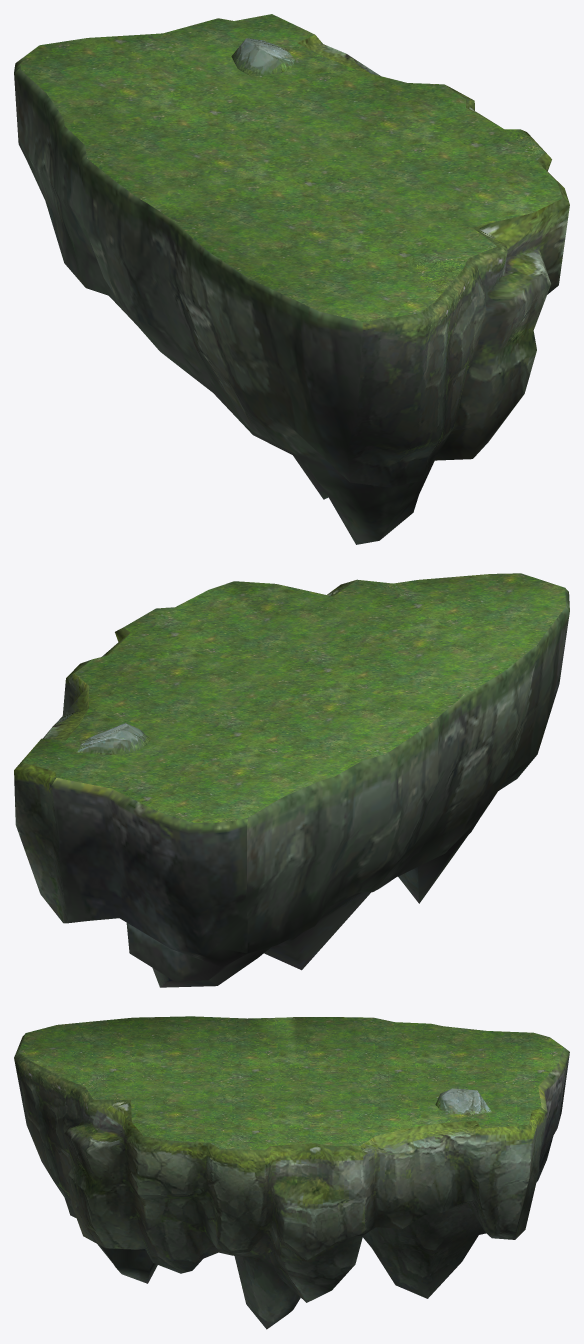
The model's file is S_Rock_Green059.FBX.
3 views of the same model, one above another, from view 1: azimuth 30°, elevation 25°; view 2: azimuth 150°, elevation 25°; view 3: azimuth 270°, elevation 25° (orthographic). The views are drawn at different scales.
Visible parts, largest first — view 1: S_Rock_Green059; view 2: S_Rock_Green059; view 3: S_Rock_Green059.
Part boxes in pixels (x1,y1,x2,y2): S_Rock_Green059: (14, 14, 569, 544); S_Rock_Green059: (14, 573, 569, 987); S_Rock_Green059: (14, 1016, 569, 1329).
Size of the model in its own units: 1375 by 1207 by 2394.
